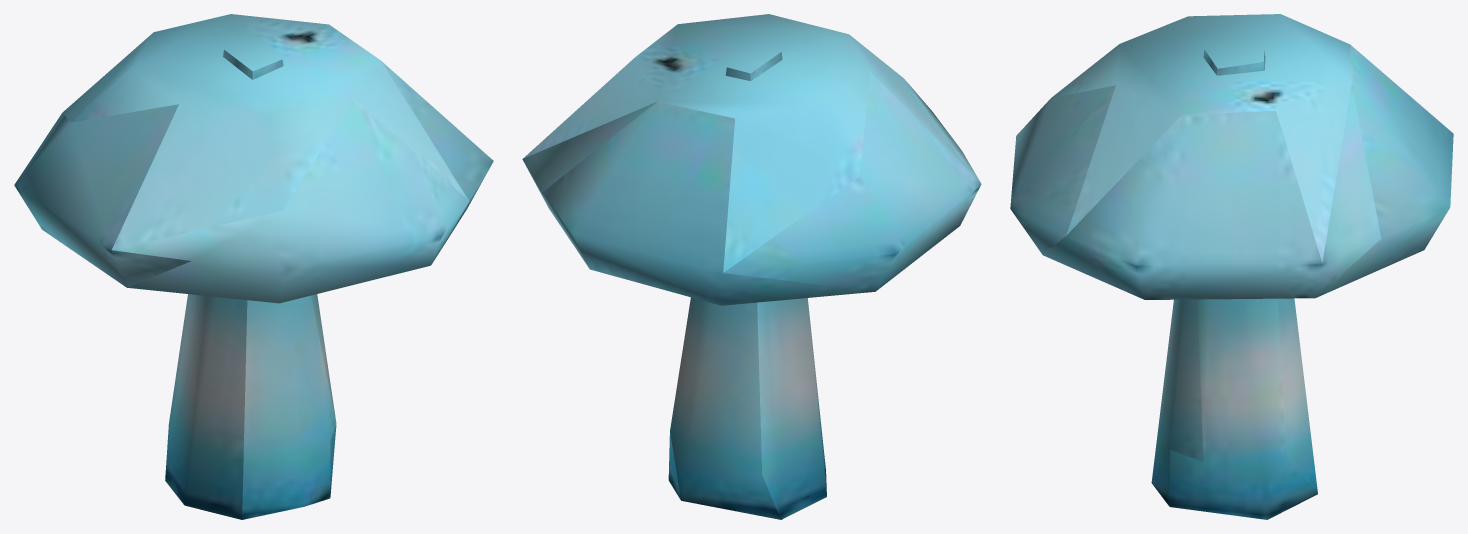
Rendered from b_mycelium_deco_champignon_lo.glb.
3 views of the same model, side by side, from view 1: azimuth 30°, elevation 25°; view 2: azimuth 150°, elevation 25°; view 3: azimuth 270°, elevation 25° (orthographic).
Visible parts, largest first — view 1: geometry_0; view 2: geometry_0; view 3: geometry_0.
Part boxes in pixels (box(x1,y1,x2,y2)): geometry_0: box(14, 14, 493, 519); geometry_0: box(522, 14, 981, 519); geometry_0: box(1010, 14, 1453, 519).
Bounding box in the file's own units: 1 × 1.07 × 1.
1 material, 1 textured.
